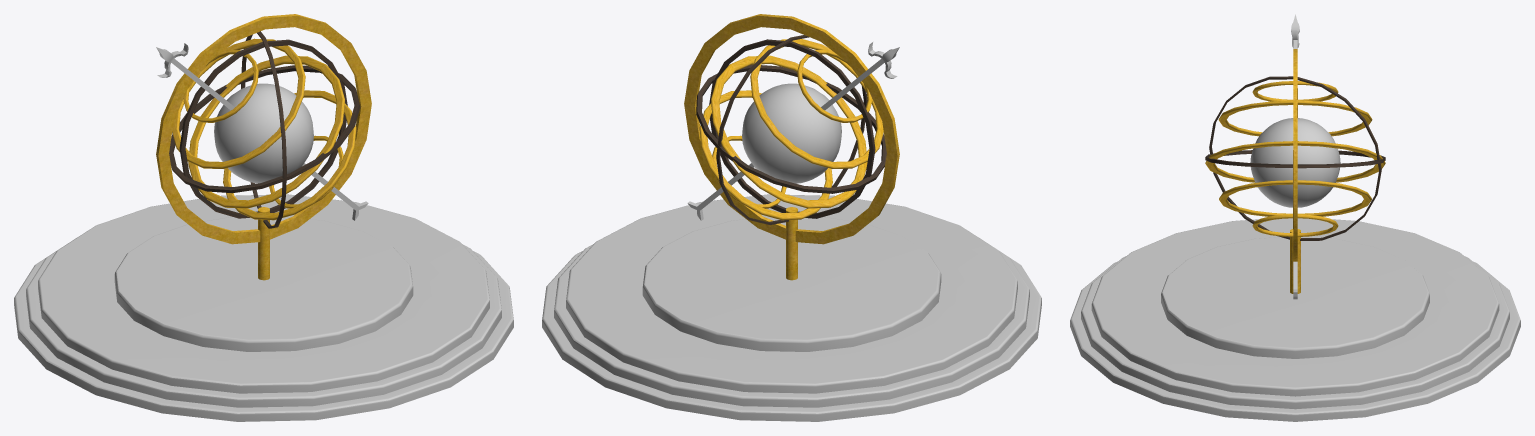
File: Statue.fbx
3 renders of one model, left to right at view 1: azimuth 30°, elevation 25°; view 2: azimuth 150°, elevation 25°; view 3: azimuth 270°, elevation 25°, orthographic. The views are drawn at different scales.
Parts seen in each view (by area): view 1: holder, pasted__pPipe1, pSphere1, polySurface49, pasted__pPipe3, pasted__pPipe2, polySurface48, polySurface50, pasted__pCube1, pPipe1, polySurface47; view 2: holder, pasted__pPipe1, pSphere1, polySurface49, pasted__pPipe3, pasted__pPipe2, polySurface48, polySurface50, pPipe1, pasted__pCube1, polySurface47; view 3: holder, pSphere1, polySurface49, polySurface50, pPipe1, polySurface48, pasted__pPipe1, pasted__pPipe2, polySurface51, polySurface47, pasted__pCube1.
Boxes of the visible parts, x1=… form: holder: x1=14, y1=194, x2=513, y2=421; pasted__pPipe1: x1=156, y1=14, x2=371, y2=244; pSphere1: x1=214, y1=83, x2=313, y2=183; polySurface49: x1=188, y1=55, x2=344, y2=208; pasted__pPipe3: x1=179, y1=39, x2=347, y2=218; pasted__pPipe2: x1=169, y1=65, x2=360, y2=193; polySurface48: x1=172, y1=38, x2=305, y2=168; polySurface50: x1=223, y1=90, x2=356, y2=220; pasted__pCube1: x1=156, y1=43, x2=368, y2=220; pPipe1: x1=241, y1=31, x2=286, y2=228; polySurface47: x1=183, y1=49, x2=258, y2=122; holder: x1=542, y1=194, x2=1041, y2=421; pasted__pPipe1: x1=684, y1=14, x2=899, y2=244; pSphere1: x1=742, y1=83, x2=841, y2=183; polySurface49: x1=711, y1=55, x2=867, y2=208; pasted__pPipe3: x1=709, y1=39, x2=875, y2=218; pasted__pPipe2: x1=696, y1=64, x2=886, y2=193; polySurface48: x1=750, y1=39, x2=883, y2=168; polySurface50: x1=699, y1=90, x2=832, y2=220; pPipe1: x1=716, y1=35, x2=867, y2=224; pasted__pCube1: x1=687, y1=42, x2=899, y2=220; polySurface47: x1=797, y1=49, x2=872, y2=122; holder: x1=1070, y1=218, x2=1520, y2=421; pSphere1: x1=1250, y1=118, x2=1340, y2=207; polySurface49: x1=1205, y1=141, x2=1385, y2=182; polySurface50: x1=1219, y1=180, x2=1371, y2=216; pPipe1: x1=1209, y1=76, x2=1381, y2=240; polySurface48: x1=1218, y1=100, x2=1372, y2=136; pasted__pPipe1: x1=1293, y1=49, x2=1297, y2=261; pasted__pPipe2: x1=1205, y1=150, x2=1385, y2=168; polySurface51: x1=1252, y1=214, x2=1338, y2=236; polySurface47: x1=1252, y1=81, x2=1338, y2=101; pasted__pCube1: x1=1291, y1=14, x2=1299, y2=299.
Size of the model in its own units: 10 by 6.56 by 10.
